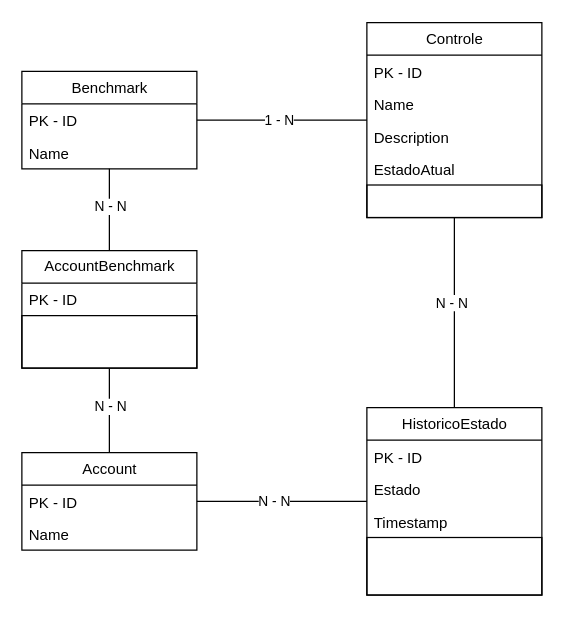
Image size: 564x620. Some labels were removed from this diagram. Each missing label, with the centre of its shape:
FK Account_ID FK Controle_ID: [454,565]
FK Benckmark_ID FK Account_ID: [109,341]
PK Benchmark_ID: [454,201]
